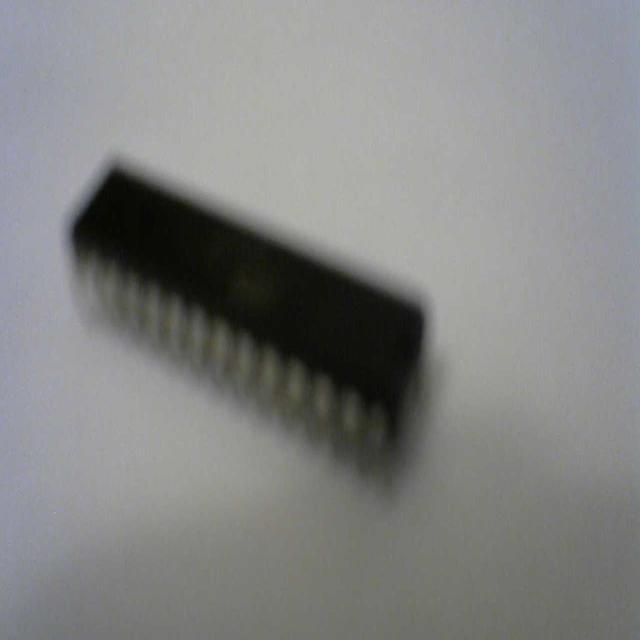atmega: (68, 150, 428, 484)
